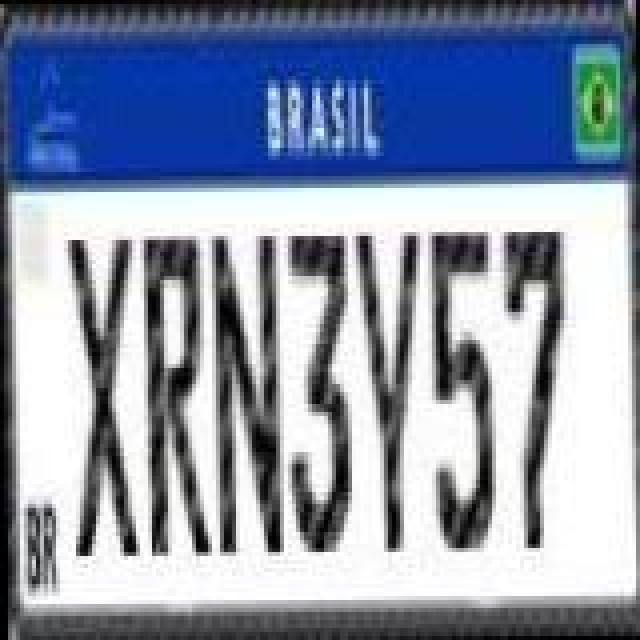3: (282, 230, 350, 554)
5: (426, 222, 494, 558)
7: (506, 226, 574, 550)
N: (212, 226, 284, 562)
R: (146, 232, 214, 556)
X: (68, 228, 140, 564)
Y: (358, 228, 426, 552)
